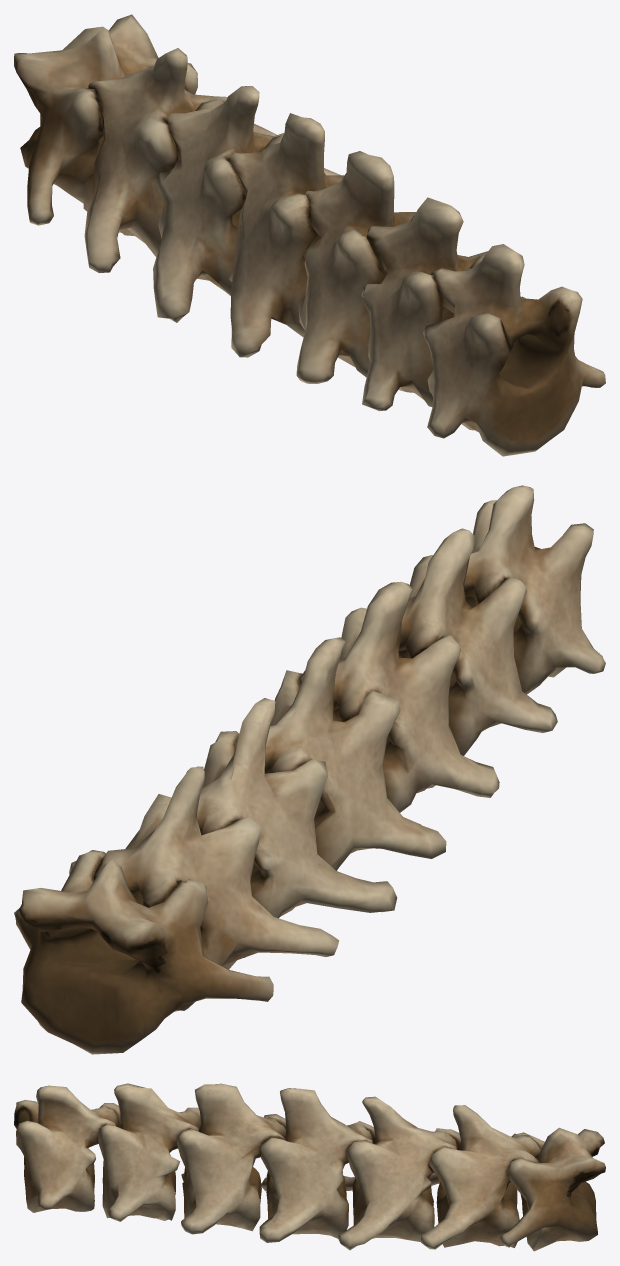
Rendered from Lumbar_Vertebrae.glb.
The picture shows the model from 3 angles, top to bottom: view 1: azimuth 30°, elevation 25°; view 2: azimuth 150°, elevation 25°; view 3: azimuth 270°, elevation 25°; orthographic projection. The views are drawn at different scales.
Visible parts, largest first — view 1: Lumbar_Vertebrae1:Lumbar_Vertebrae; view 2: Lumbar_Vertebrae1:Lumbar_Vertebrae; view 3: Lumbar_Vertebrae1:Lumbar_Vertebrae.
Part boxes in pixels (left/top/right/bottom): Lumbar_Vertebrae1:Lumbar_Vertebrae: left=14, top=14, right=605, bottom=456; Lumbar_Vertebrae1:Lumbar_Vertebrae: left=14, top=485, right=605, bottom=1054; Lumbar_Vertebrae1:Lumbar_Vertebrae: left=14, top=1083, right=605, bottom=1251.
Size of the model in its own units: 46.61 by 43.38 by 146.
Materials: 1 (1 with a texture image).
